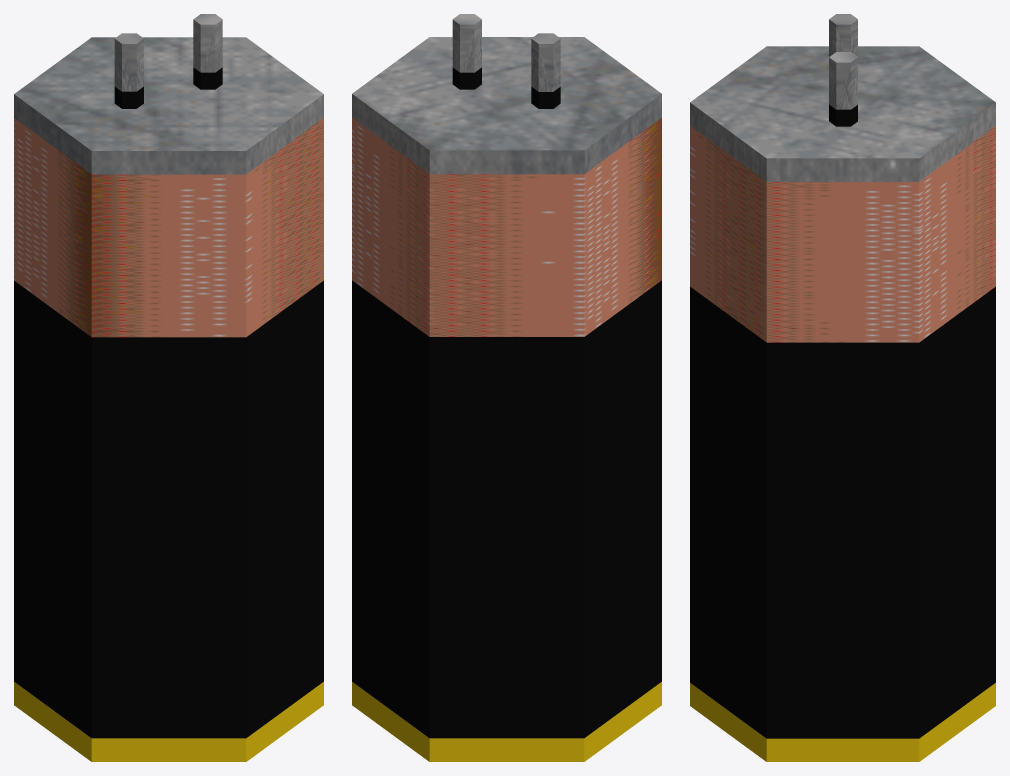
The model's file is Battery.fbx.
3 renders of one model, left to right at view 1: azimuth 30°, elevation 25°; view 2: azimuth 150°, elevation 25°; view 3: azimuth 270°, elevation 25°, orthographic.
Parts seen in each view (by area): view 1: Fuse; view 2: Fuse; view 3: Fuse.
Part boxes in pixels (<box>): Fuse: <box>14,14,323,761</box>; Fuse: <box>352,14,661,761</box>; Fuse: <box>690,14,995,761</box>.
Size of the model in its own units: 28.97 by 80.57 by 33.46.
Materials: 1 (1 with a texture image).
